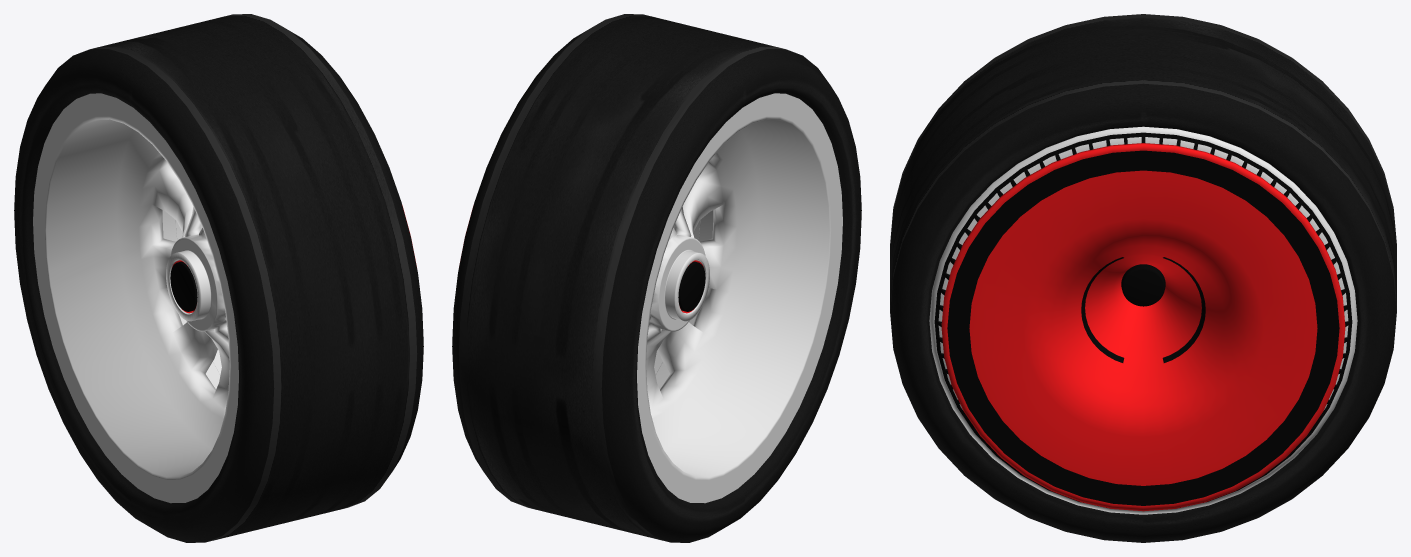
Rendered from tokii_abyss_front_wheel.gltf.
3 views of the same model, side by side, from view 1: azimuth 30°, elevation 25°; view 2: azimuth 150°, elevation 25°; view 3: azimuth 270°, elevation 25° (orthographic).
Visible parts, largest first — view 1: Object_33; view 2: Object_33; view 3: Object_33.
Boxes of the visible parts, x1=… form: Object_33: x1=14, y1=14, x2=423, y2=542; Object_33: x1=452, y1=14, x2=861, y2=542; Object_33: x1=890, y1=14, x2=1396, y2=542.
Size of the model in its own units: 0.315 by 0.7264 by 0.7264.
Materials: 4 (1 with a texture image).
